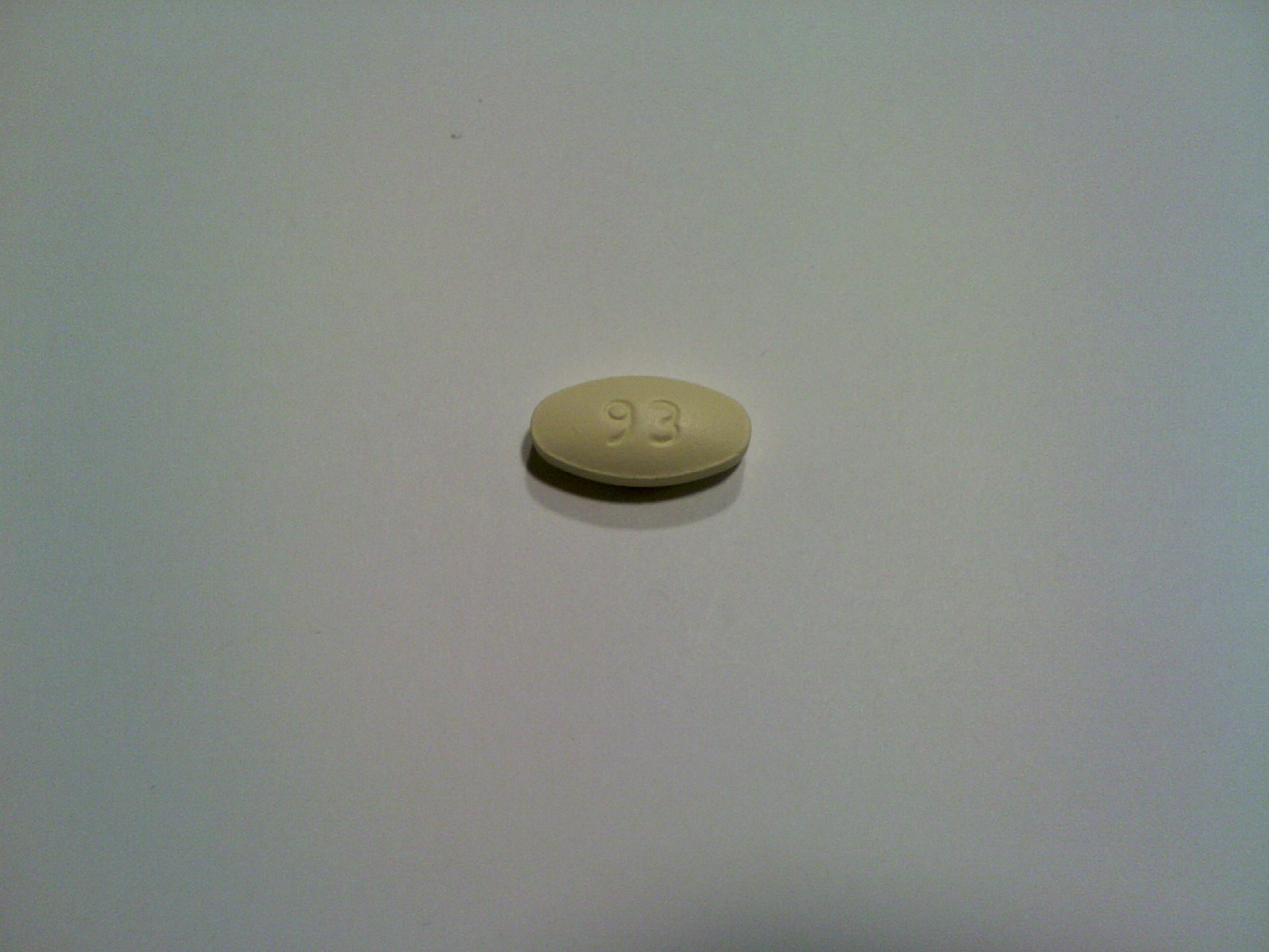Pill: (521, 367, 764, 495)
